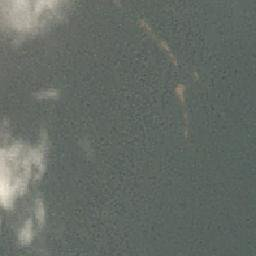cloud: (1, 123, 53, 247), (1, 1, 68, 53), (33, 83, 63, 102)
debris: (175, 78, 191, 133), (159, 38, 176, 66), (137, 19, 151, 34)
